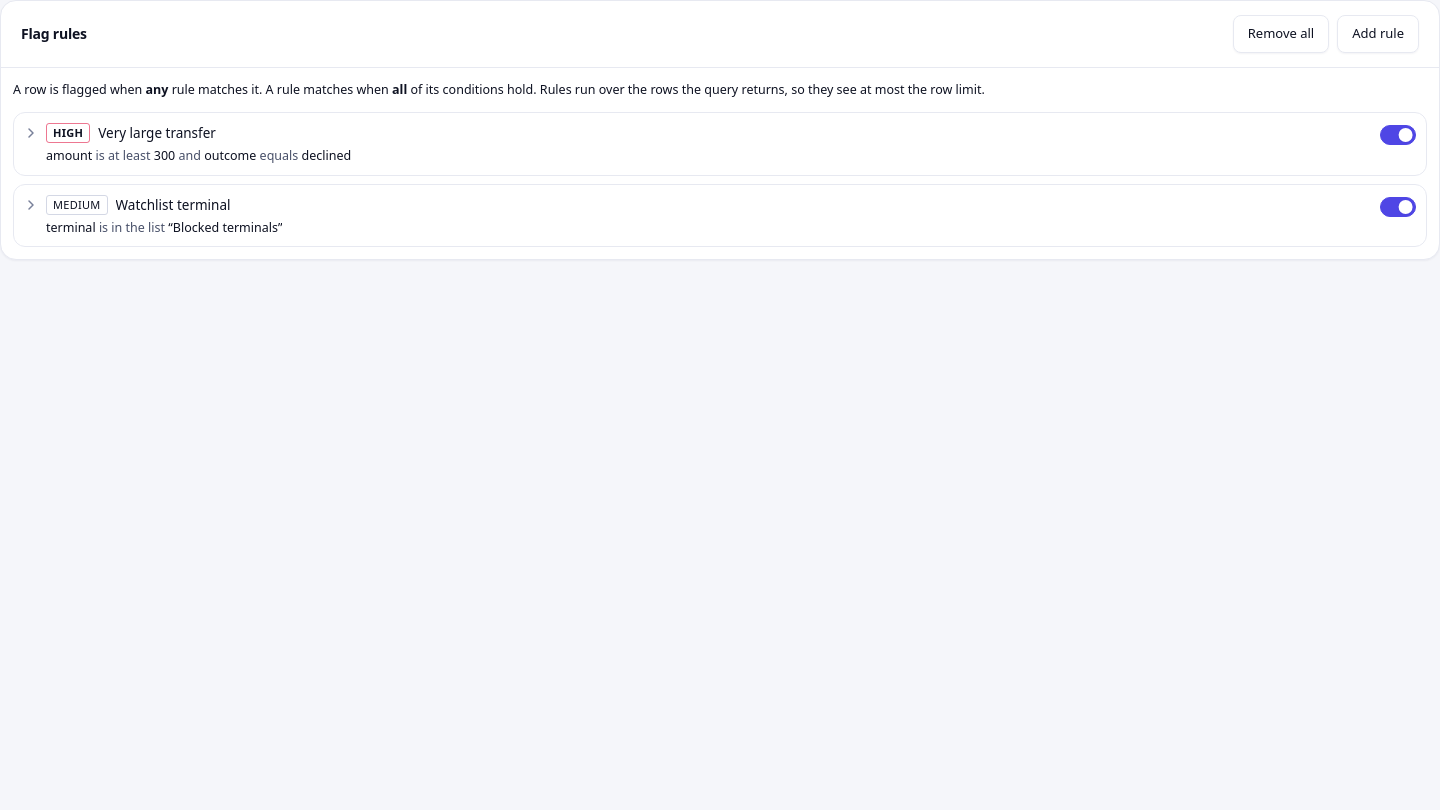
Scenario: opening and closing › has only one rule open: opening another closes the first
The width and height of the screenshot is (1440, 810).
Click the button with aria-label "Edit rule Very large transfer" at (68, 133), box [24,123,1372,164]
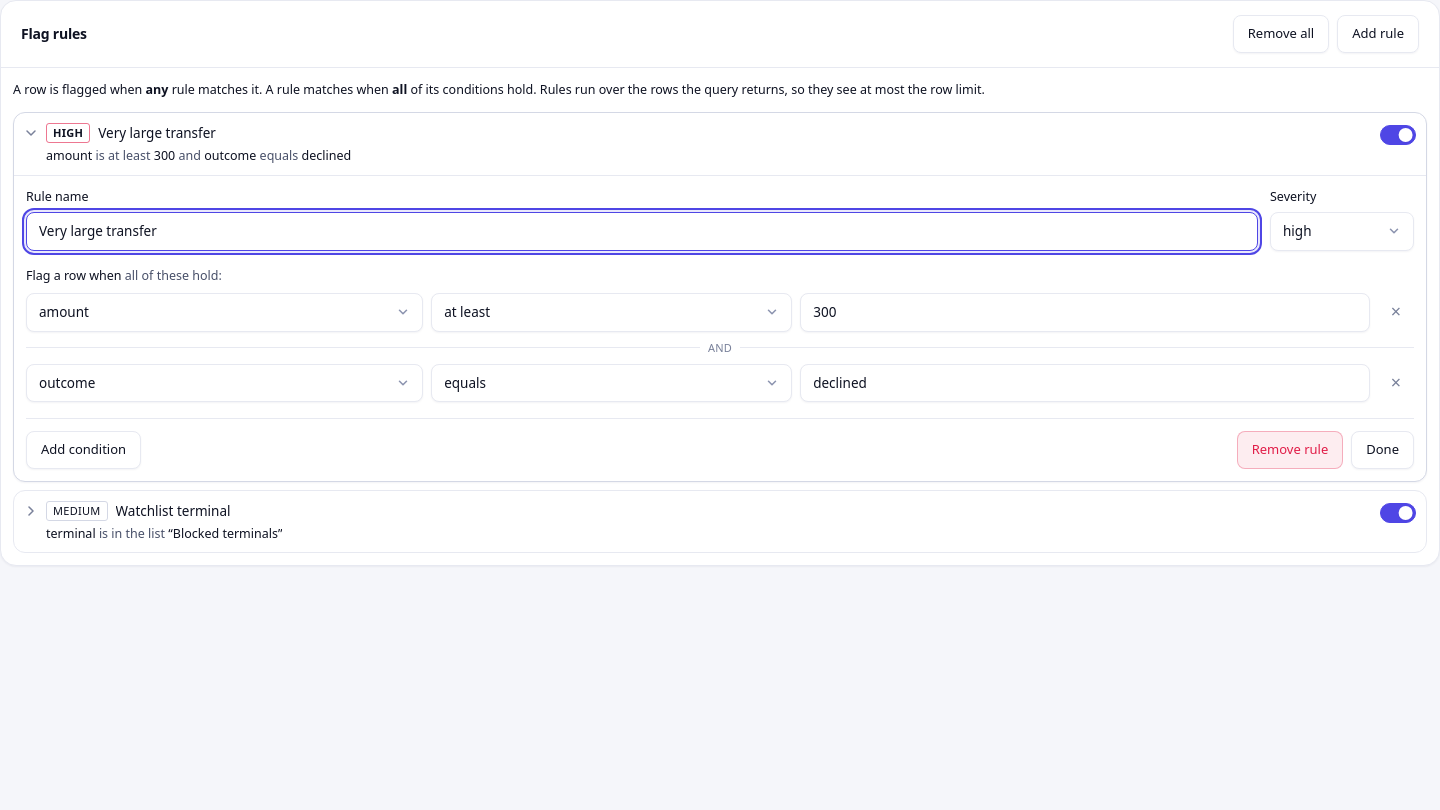
Now the number of dropdowns named "Column" is 2, box [26,293,423,332]; [26,364,423,402]
Click the button with aria-label "Edit rule Watchlist terminal" at (77, 511), box [24,501,1372,542]
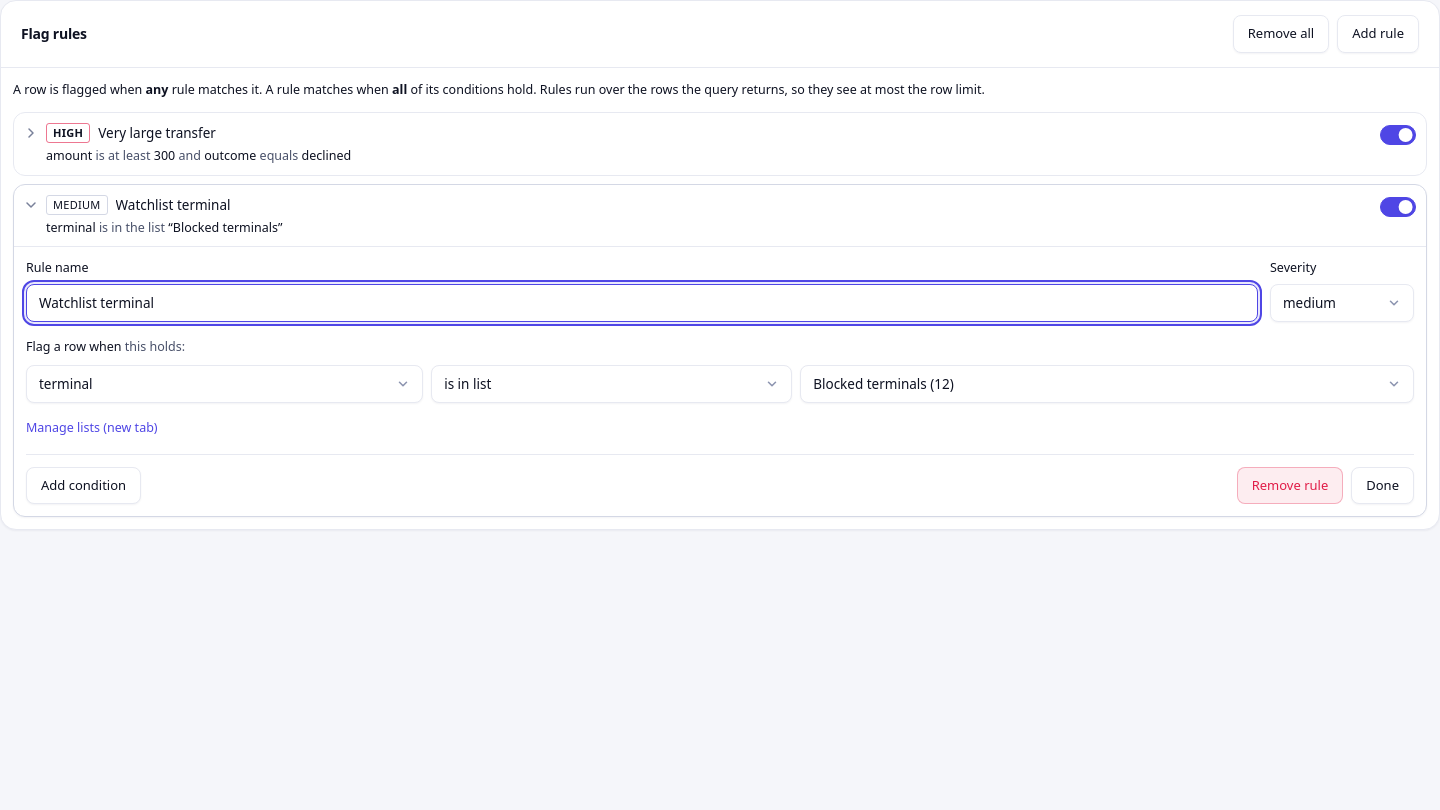
Now the number of fields labelled "Rule name" is 1, box [26,284,1258,322]
Now the number of dropdowns named "Column" is 1, box [26,365,423,403]
